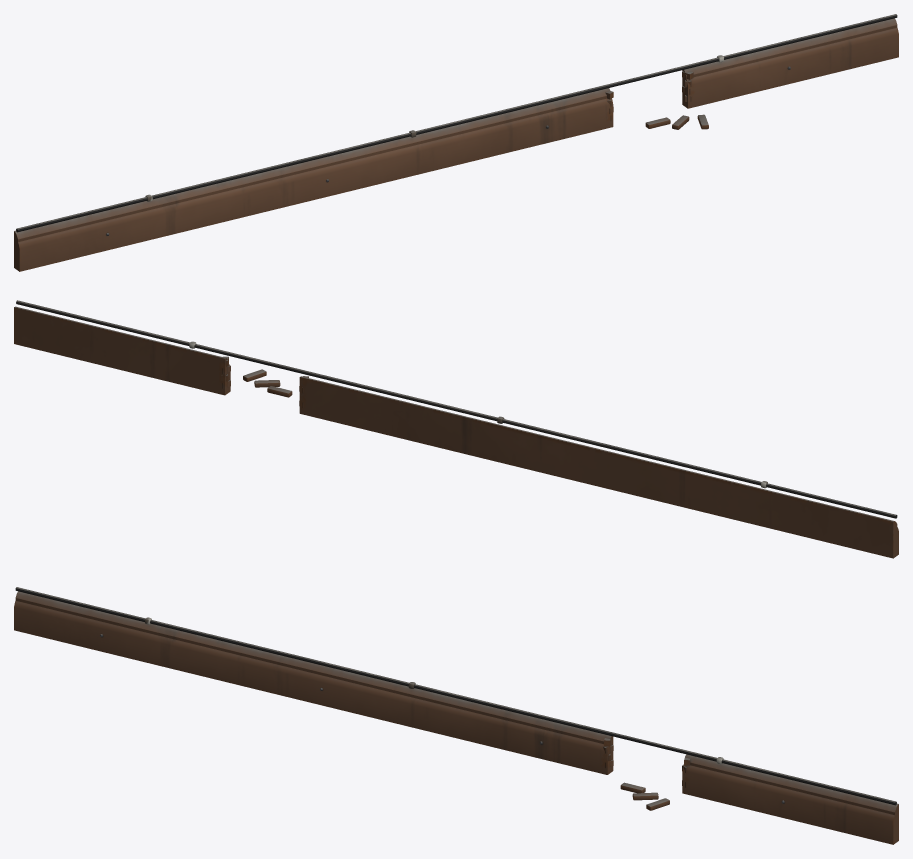
The model's file is SM_Baseboard_2m.fbx.
3 renders of one model, top to bottom at view 1: azimuth 30°, elevation 25°; view 2: azimuth 150°, elevation 25°; view 3: azimuth 330°, elevation 25°, orthographic.
Visible parts, largest first — view 1: SM_Baseboard_2m; view 2: SM_Baseboard_2m; view 3: SM_Baseboard_2m.
Boxes of the visible parts, x1=… form: SM_Baseboard_2m: x1=14, y1=14, x2=898, y2=271; SM_Baseboard_2m: x1=14, y1=300, x2=898, y2=558; SM_Baseboard_2m: x1=14, y1=587, x2=898, y2=844.
Bounding box in the file's own units: 2 × 0.092 × 0.1258.
1 material, 1 textured.
